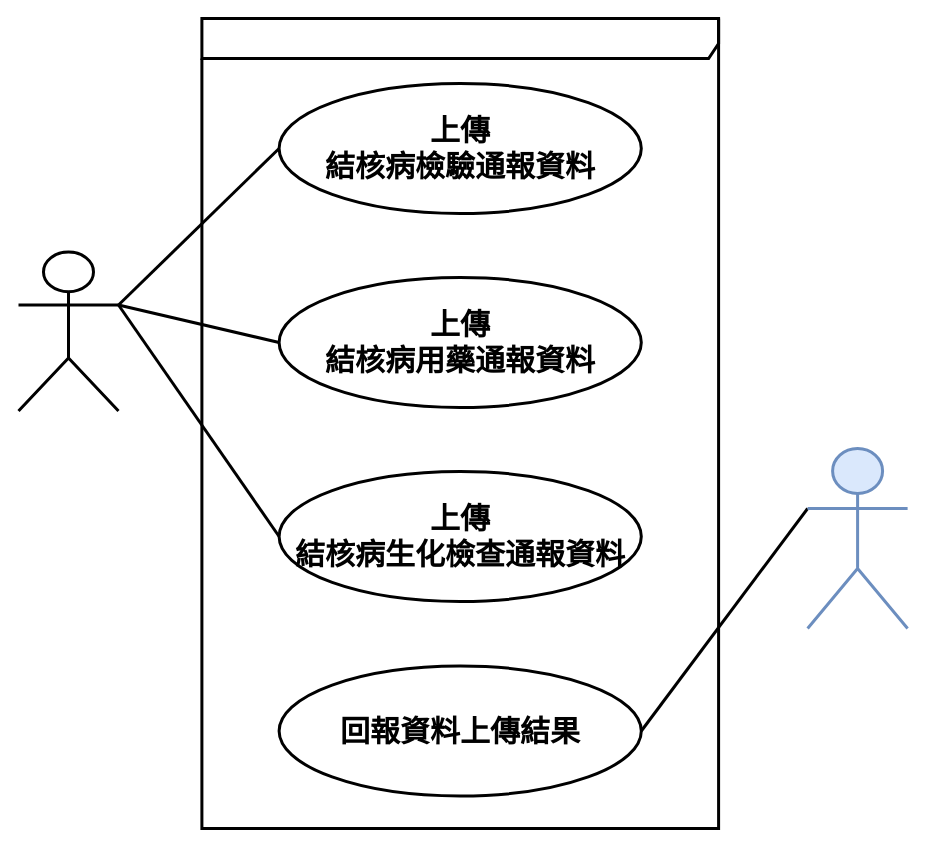
Some shapes in this 927 by 847 pixel diagram are drawn without their labels. The box of each missing label's shape, as (x1, y1, x2, y2) in pixels:
結核病追蹤管理系統: (200, 16, 720, 830)
醫療院所: (16, 250, 120, 412)
